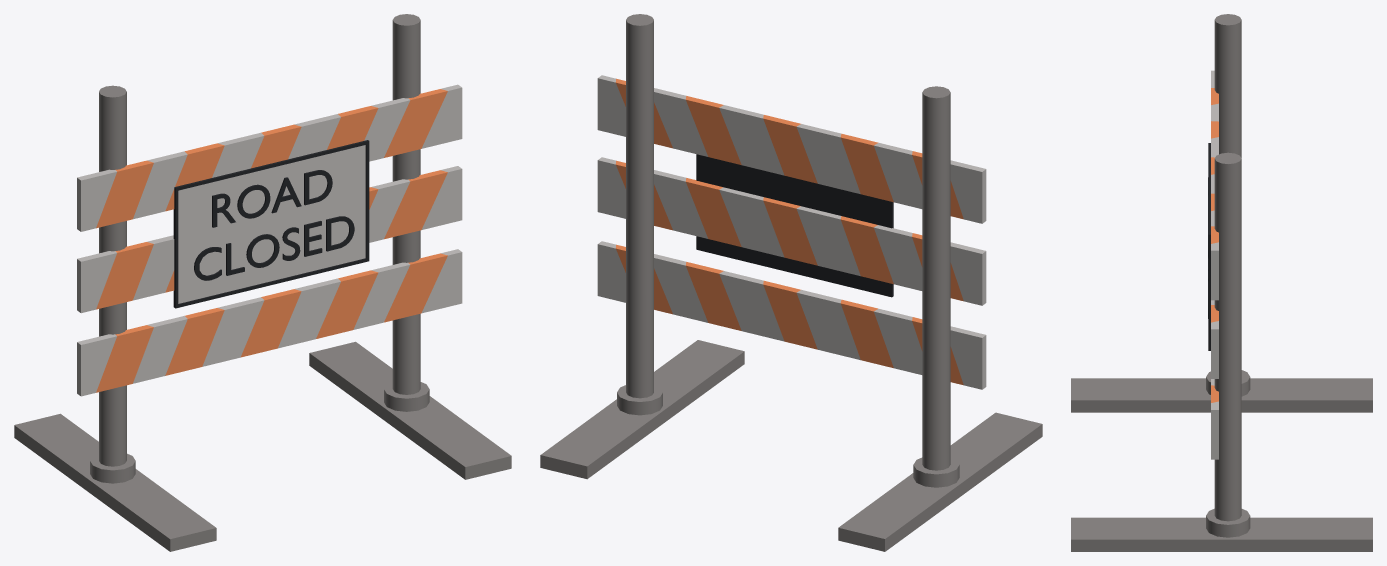
Rendered from TrafficBarrier_2.fbx.
3 renders of one model, left to right at view 1: azimuth 30°, elevation 25°; view 2: azimuth 150°, elevation 25°; view 3: azimuth 270°, elevation 25°, orthographic. The views are drawn at different scales.
Visible parts, largest first — view 1: TrafficBarrier_2; view 2: TrafficBarrier_2; view 3: TrafficBarrier_2.
Part boxes in pixels (<box>): TrafficBarrier_2: <box>14,14,511,551</box>; TrafficBarrier_2: <box>540,14,1042,551</box>; TrafficBarrier_2: <box>1071,14,1372,551</box>.
Size of the model in its own units: 118 by 117 by 83.61.
